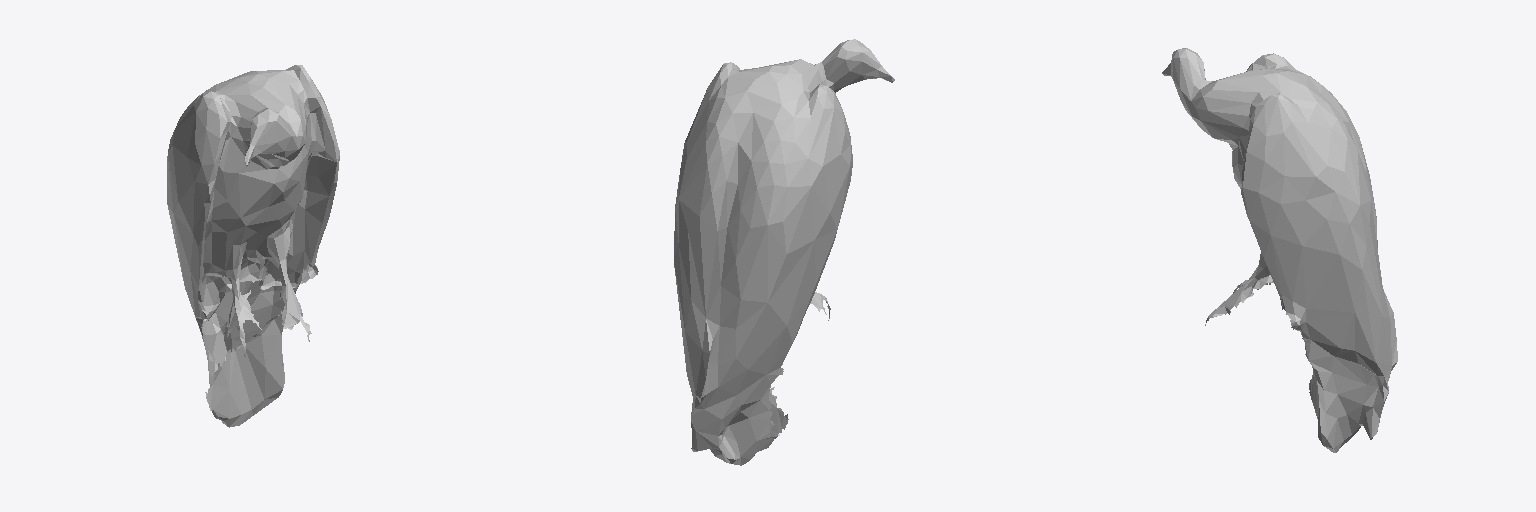
The model's file is turkeyvulture.obj.
3 views of the same model, side by side, from view 1: azimuth 30°, elevation 25°; view 2: azimuth 150°, elevation 25°; view 3: azimuth 270°, elevation 25° (orthographic).
Parts seen in each view (by area): view 1: turkeyvulture_lowpoly_model_mesh2.013; view 2: turkeyvulture_lowpoly_model_mesh2.013; view 3: turkeyvulture_lowpoly_model_mesh2.013.
Part boxes in pixels (x1,y1,x2,y2): turkeyvulture_lowpoly_model_mesh2.013: (167, 65, 339, 427); turkeyvulture_lowpoly_model_mesh2.013: (674, 39, 894, 465); turkeyvulture_lowpoly_model_mesh2.013: (1162, 48, 1397, 452).
Bounding box in the file's own units: 0.5723 × 1.45 × 0.8163.